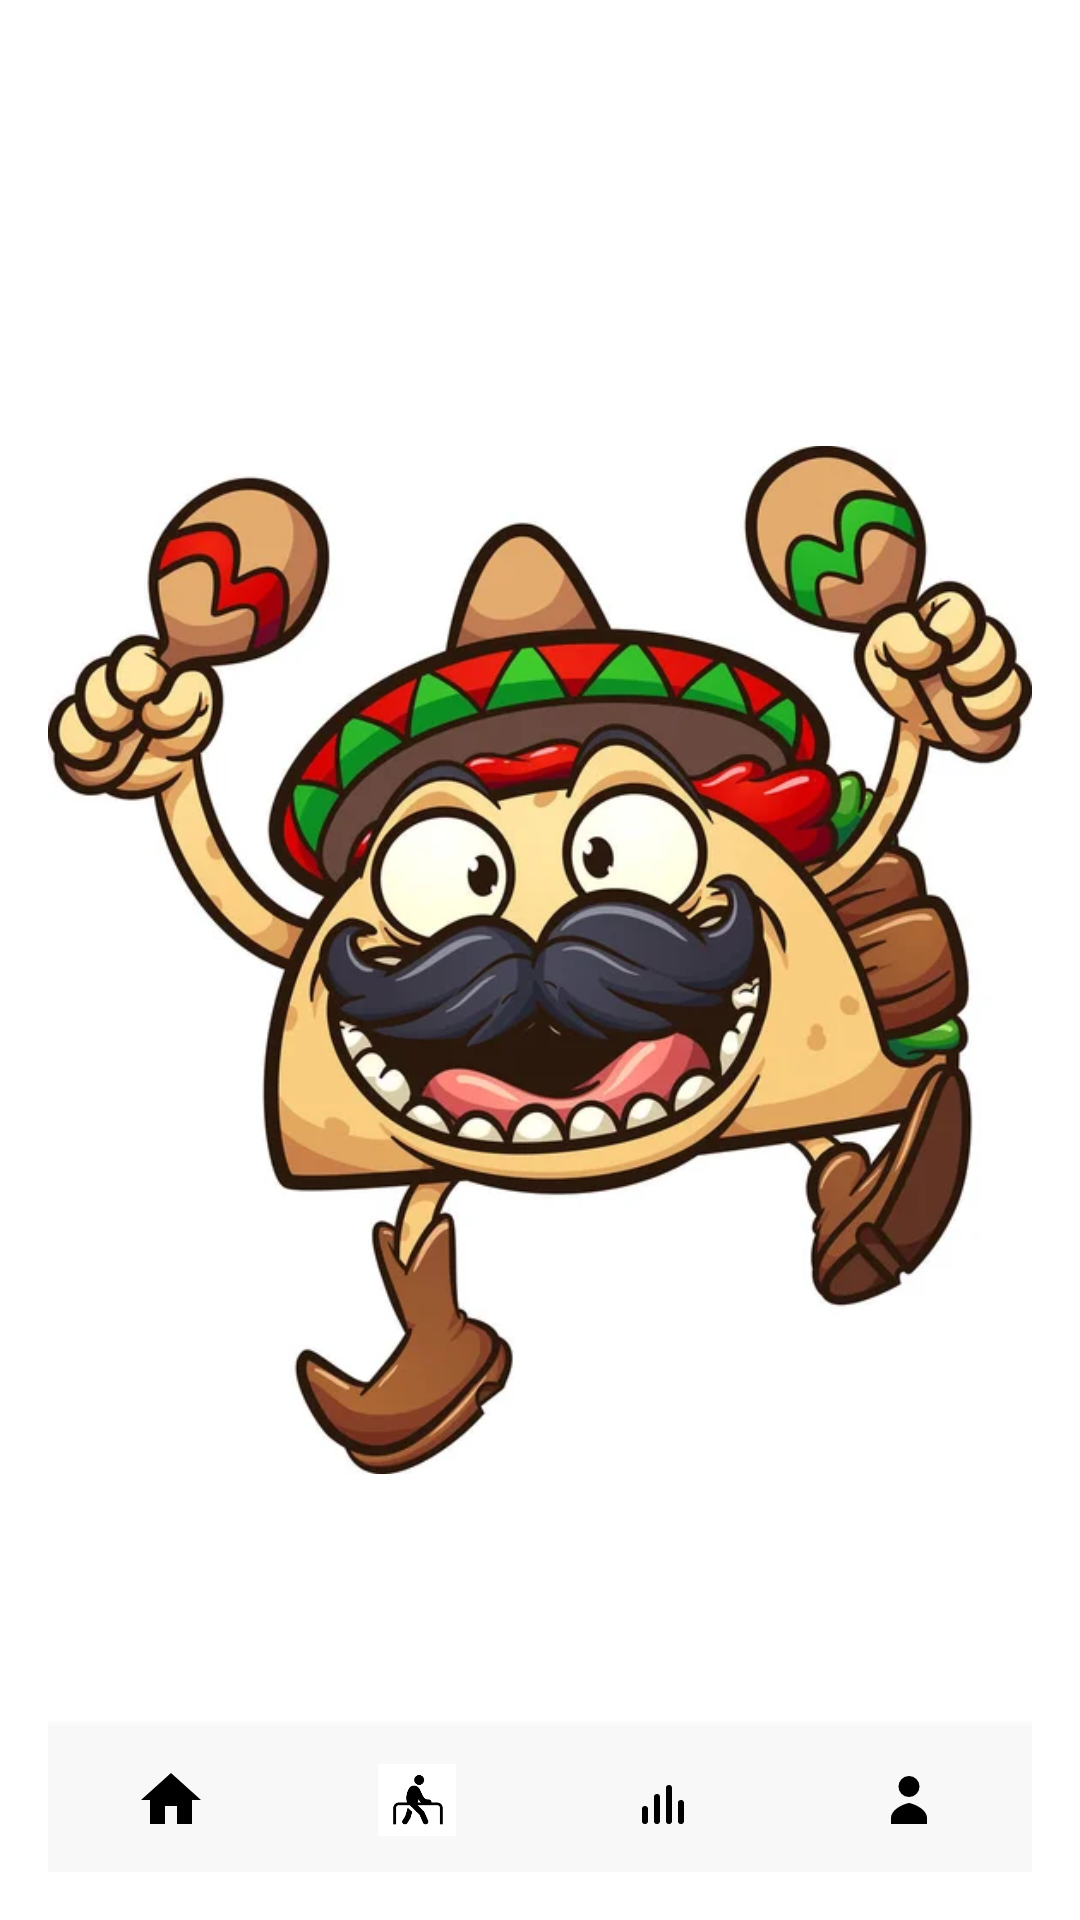

Named icons in this screenshot (1080*1920) and their bounding boxes, (x1, y1, x2, y2):
excersise: (393, 1775, 443, 1825)
home: (141, 1773, 201, 1824)
profile: (891, 1776, 927, 1824)
progress: (642, 1785, 684, 1824)
